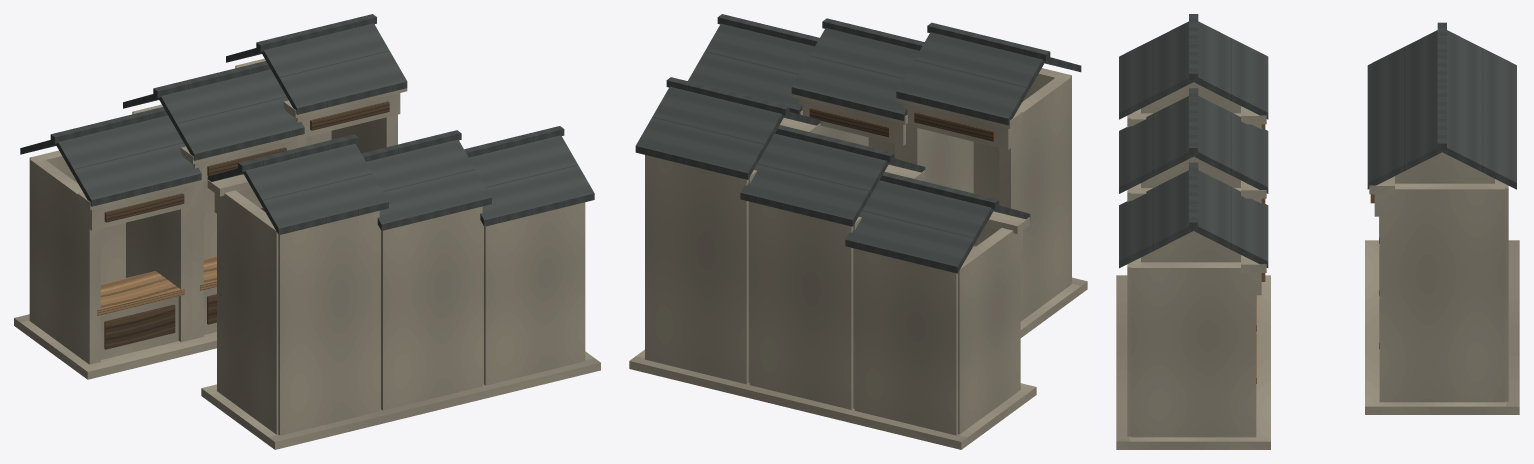
Rendered from macau.glb.
3 renders of one model, left to right at view 1: azimuth 30°, elevation 25°; view 2: azimuth 150°, elevation 25°; view 3: azimuth 270°, elevation 25°, orthographic. The views are drawn at different scales.
Parts seen in each view (by area): view 1: macau; view 2: macau; view 3: macau.
Boxes of the visible parts, x1=… form: macau: x1=14, y1=14, x2=600, y2=449; macau: x1=629, y1=14, x2=1087, y2=449; macau: x1=1116, y1=14, x2=1519, y2=449.
Bounding box in the file's own units: 4 × 2.5 × 3.38.
1 material, 1 textured.
